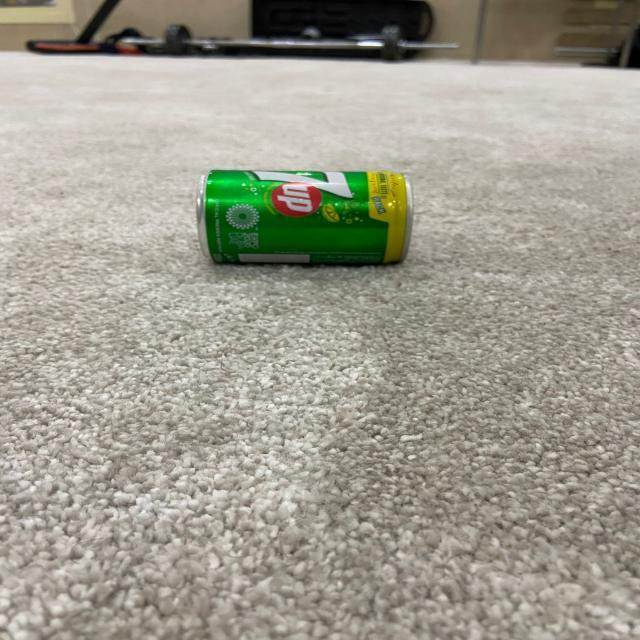can: (198, 158, 416, 271)
